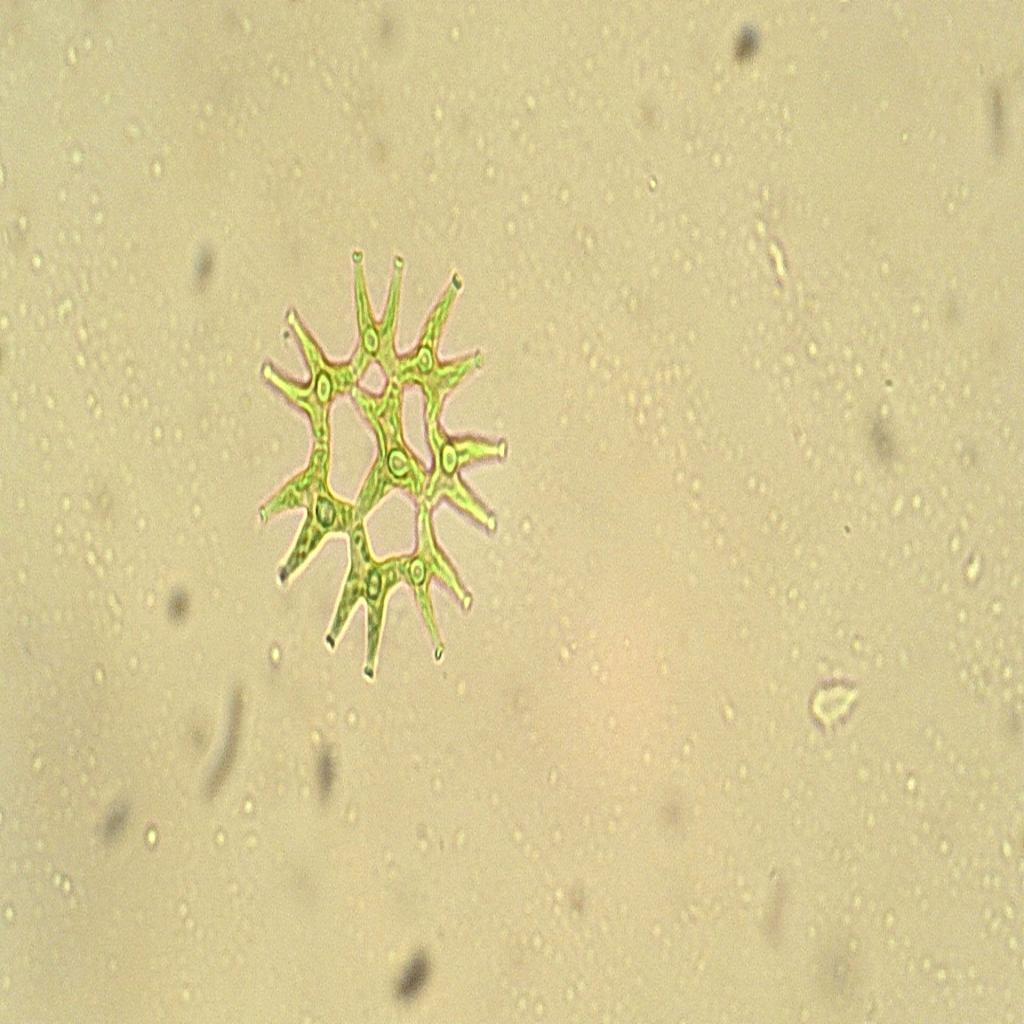Pediastrum_CTH: (250, 218, 526, 708)
